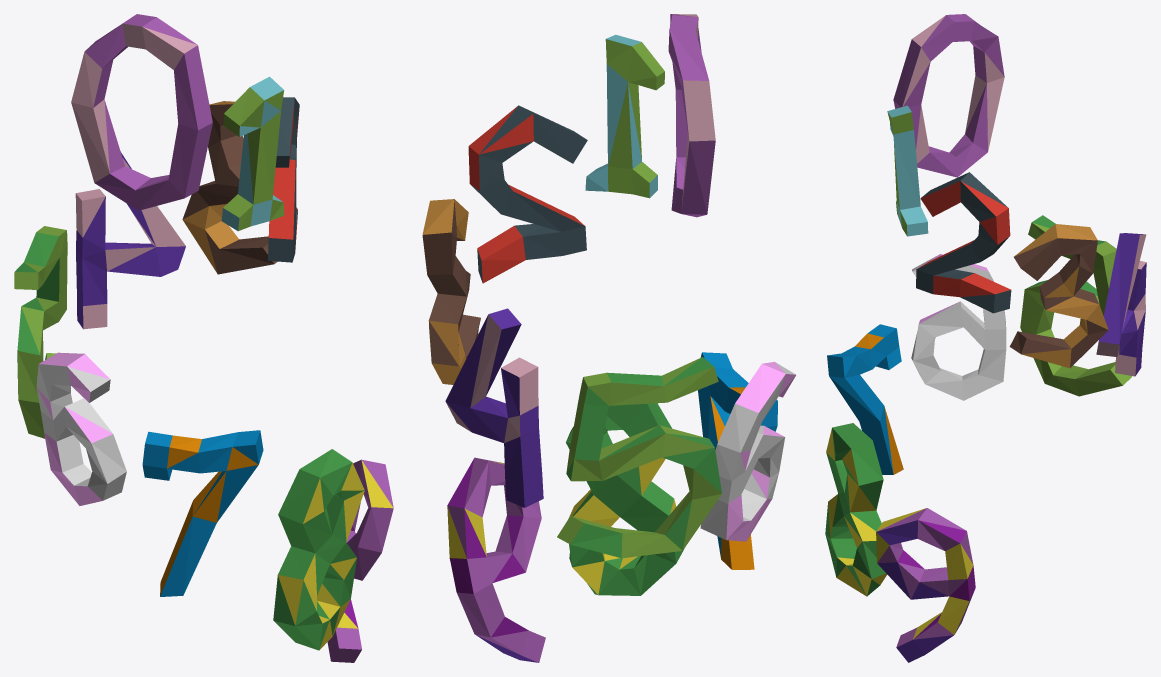
3 renders of one model, left to right at view 1: azimuth 30°, elevation 25°; view 2: azimuth 150°, elevation 25°; view 3: azimuth 270°, elevation 25°, orthographic. The views are drawn at different scales.
Parts seen in each view (by area): view 1: node_MeshObject-1391270400-PolyPaper9, node_MeshObject-872550336-PolyGem25; view 2: node_MeshObject-1391270400-PolyPaper9, node_MeshObject-872550336-PolyGem25; view 3: node_MeshObject-1391270400-PolyPaper9.
Part boxes in pixels (box(x1,y1,x2,y2)): node_MeshObject-1391270400-PolyPaper9: box(14, 14, 393, 662); node_MeshObject-872550336-PolyGem25: box(37, 352, 112, 505); node_MeshObject-1391270400-PolyPaper9: box(422, 14, 795, 662); node_MeshObject-872550336-PolyGem25: box(726, 361, 795, 541); node_MeshObject-1391270400-PolyPaper9: box(825, 14, 1146, 662).
Bounding box in the file's own units: 1.14 × 2.37 × 1.21.
